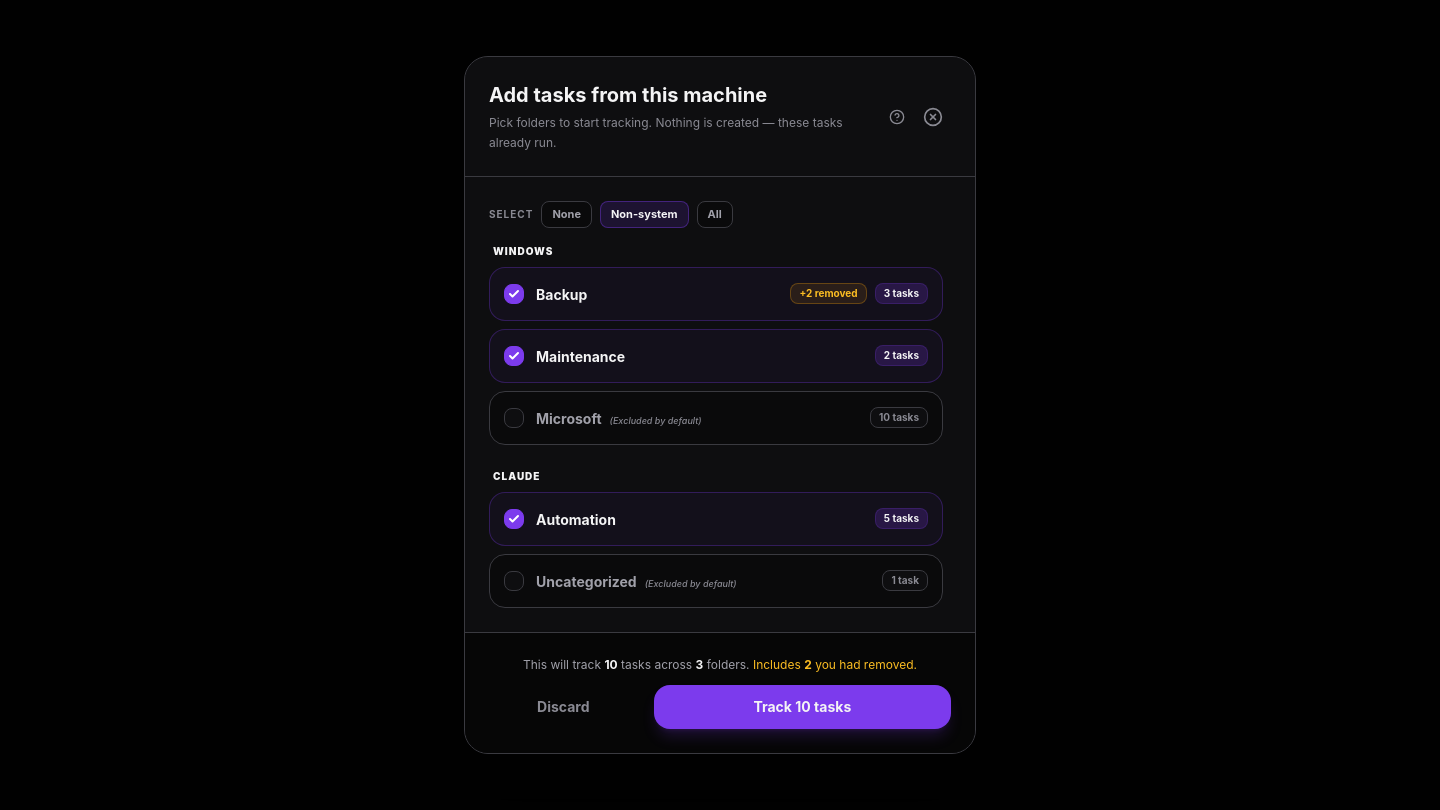
Test: SyncSourcesModal › offers None / Non-system / All, and All really does include the OS tasks
expect the button "All" is shown: met, box [697, 201, 733, 228]
Click the button "None": [567, 215] box [541, 201, 592, 228]
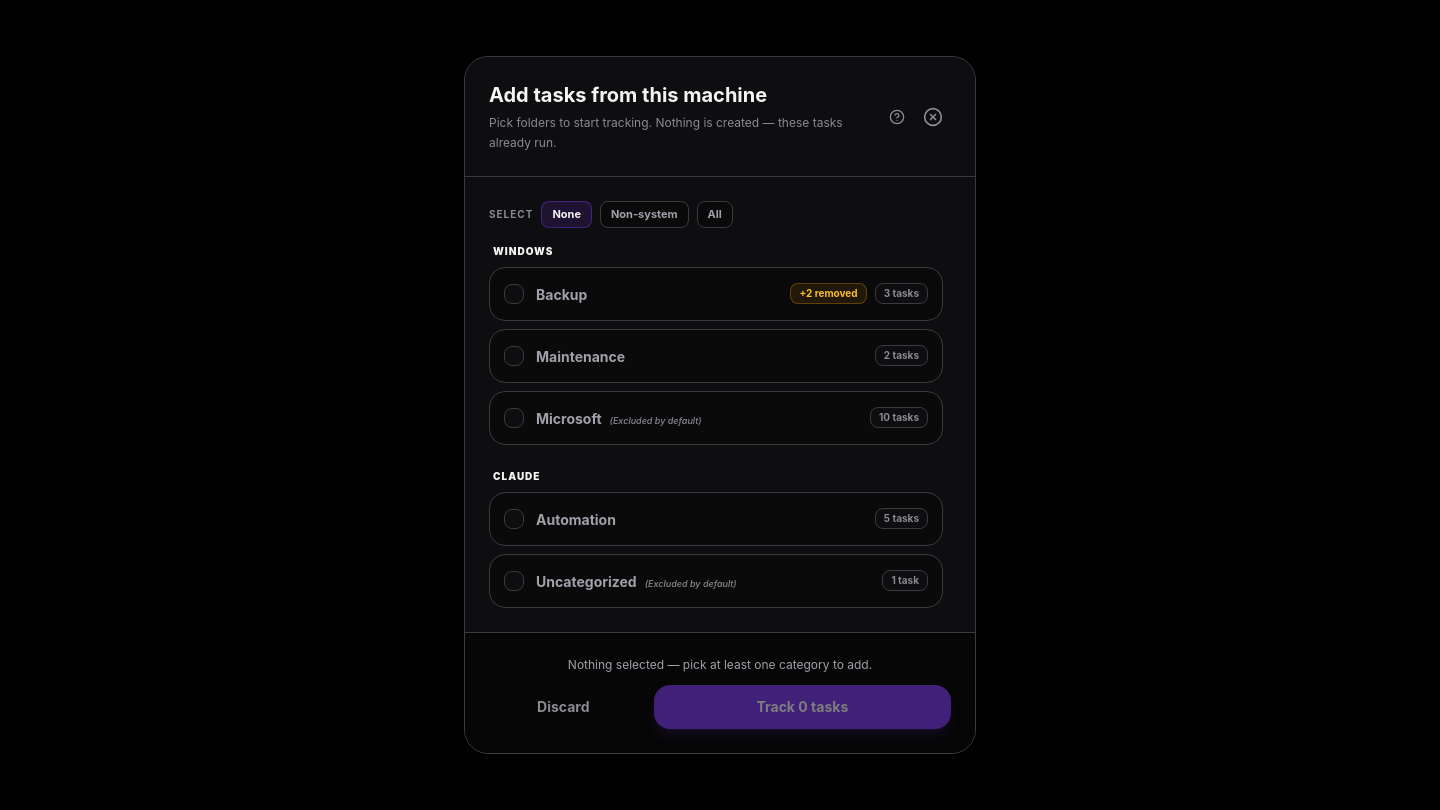
expect the text with test id "import-preview" shows "Nothing selected": met, box [568, 657, 872, 672]
Click the button "All": [715, 215] box [697, 201, 733, 228]
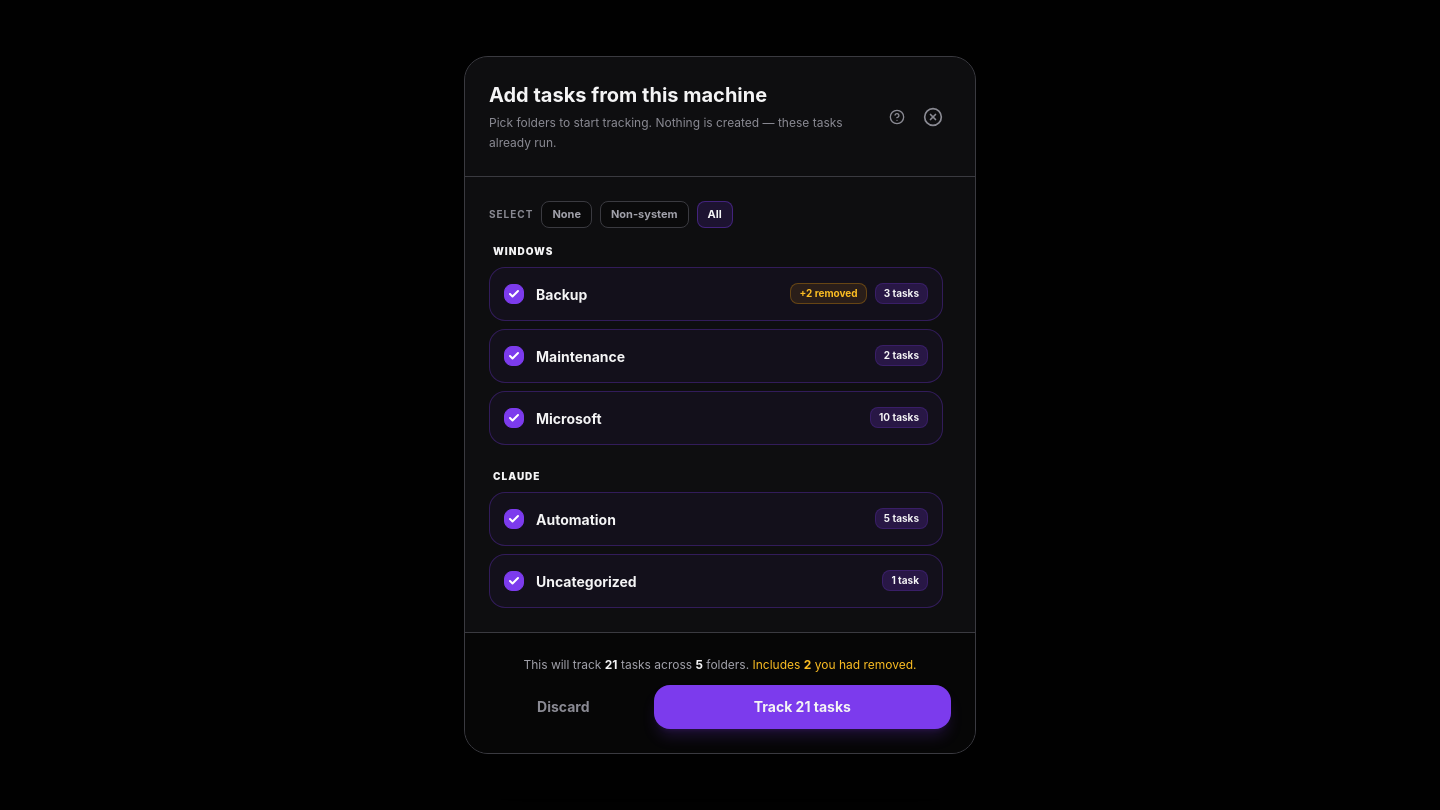
expect the element with test id "import-preview" shows "21 tasks across 5 folders": met, box [489, 657, 951, 673]
Click the button "Non-system": [644, 215] box [600, 201, 689, 228]
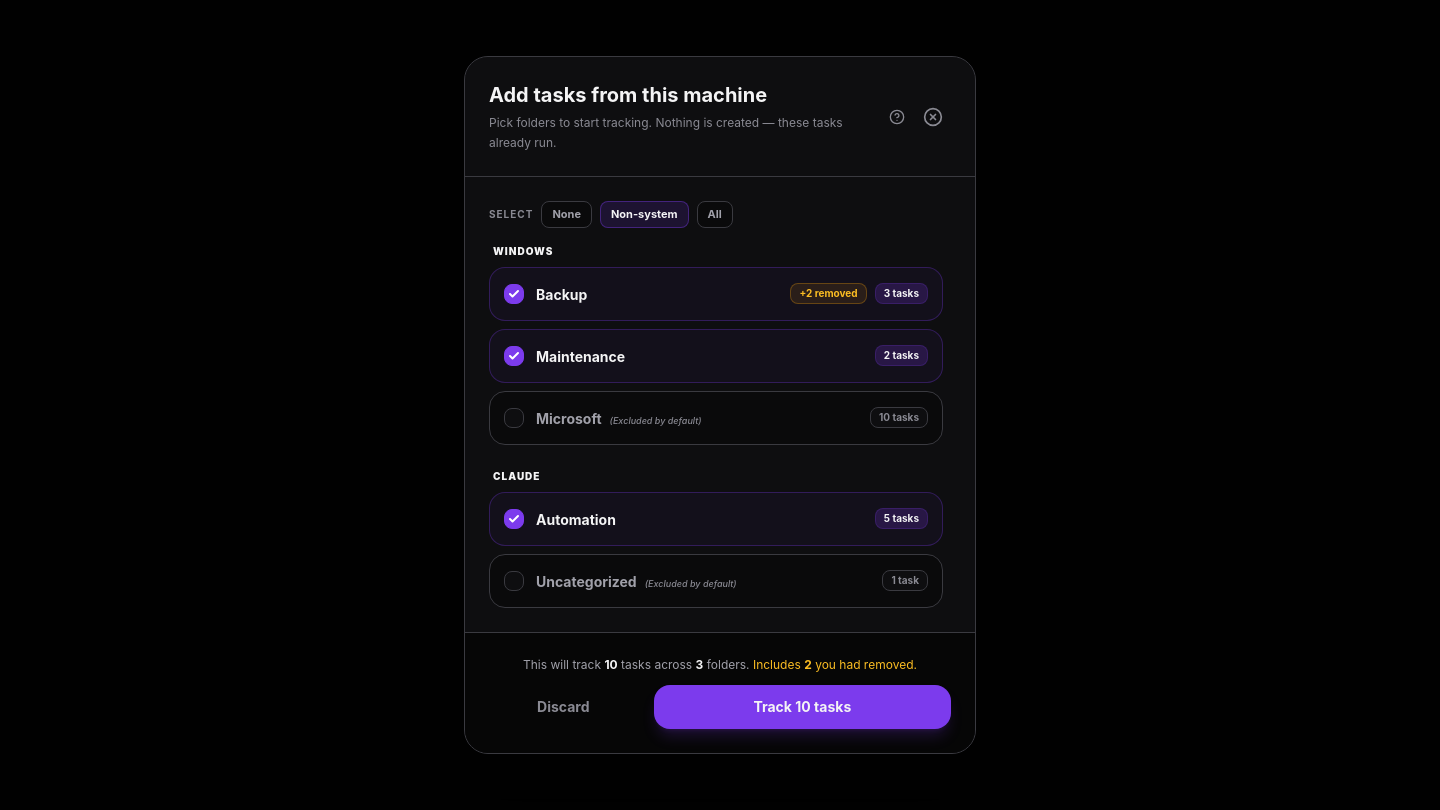
expect the element with test id "import-preview" shows "10 tasks across 3 folders": met, box [489, 657, 951, 673]
